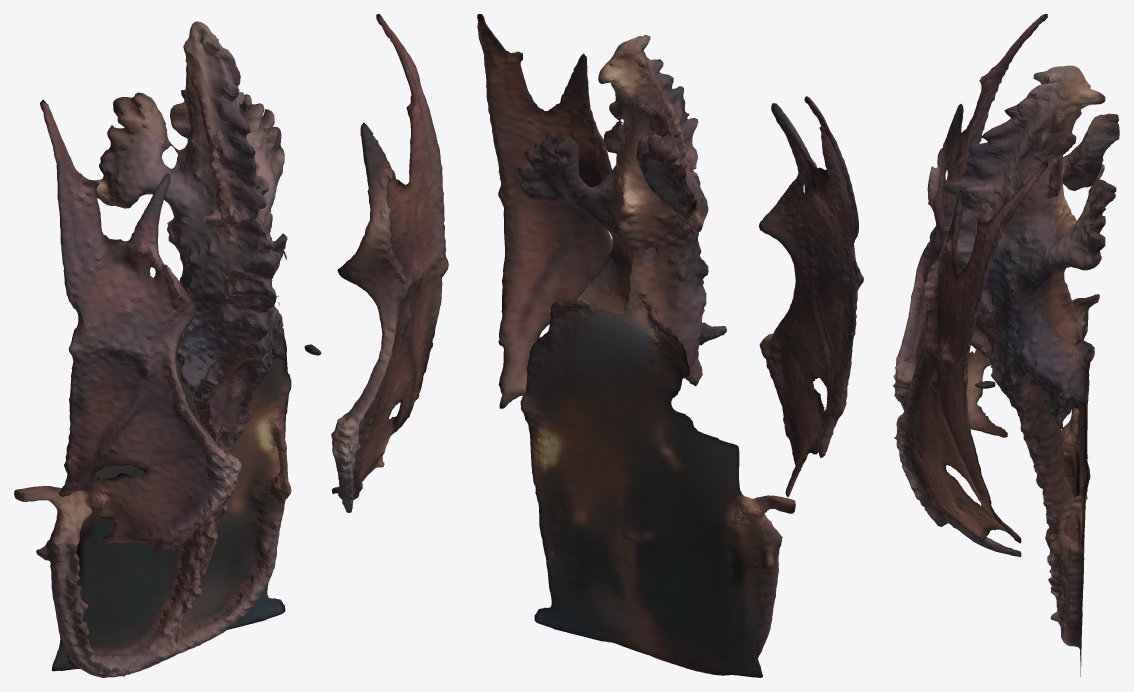
The model's file is card-conditioned-source.glb.
The picture shows the model from 3 angles, left to right: view 1: azimuth 30°, elevation 25°; view 2: azimuth 150°, elevation 25°; view 3: azimuth 270°, elevation 25°; orthographic projection. The views are drawn at different scales.
Visible parts, largest first — view 1: geometry_0; view 2: geometry_0; view 3: geometry_0.
Boxes of the visible parts, bbox=[...] form: geometry_0: bbox=[14, 14, 448, 677]; geometry_0: bbox=[477, 14, 863, 677]; geometry_0: bbox=[892, 14, 1119, 676].
Size of the model in its own units: 0.4762 by 0.7556 by 0.2664.
